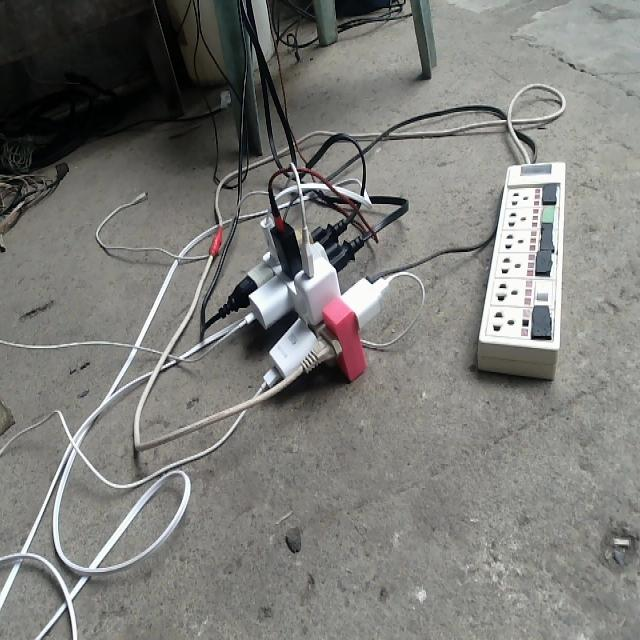-: (224, 202, 389, 386)
